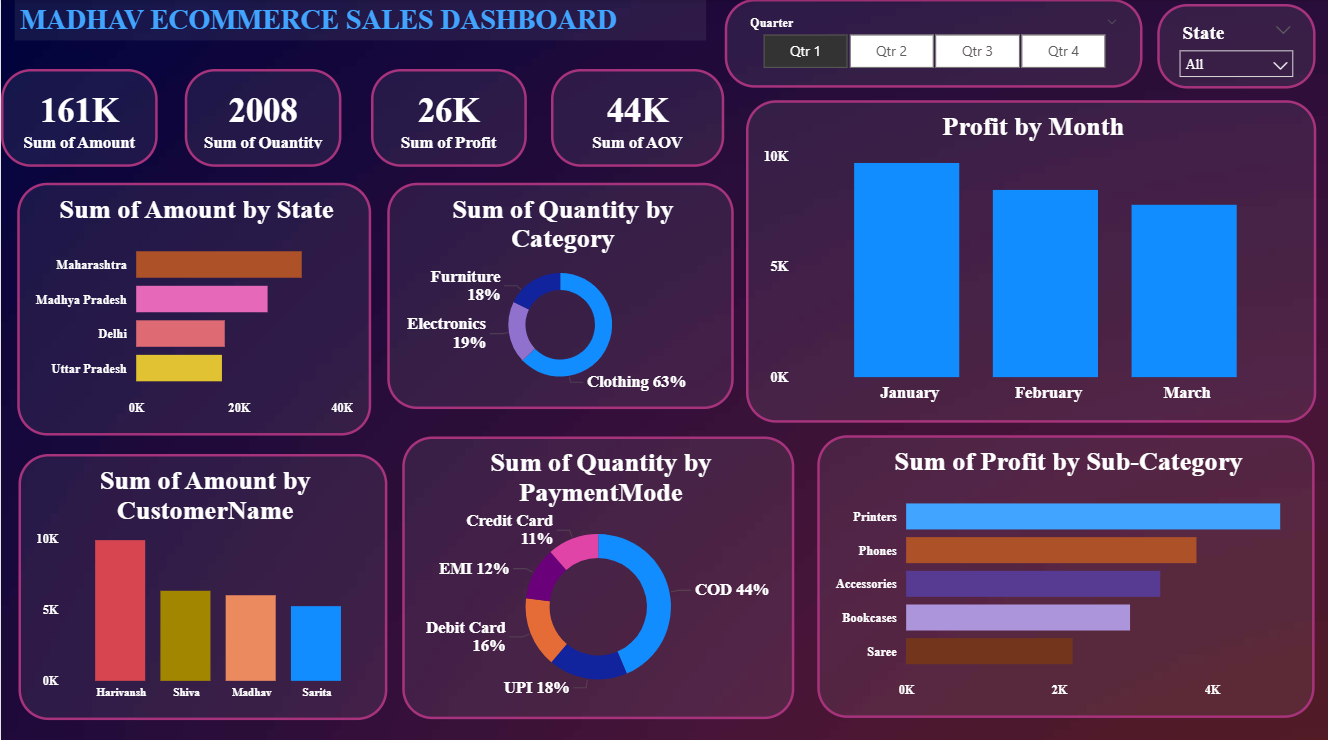

Layout of this report page (visuals, bound fields, positions):
{"tool":"powerbi","page":{"name":"Page 1","canvas":[1280,720],"ordinal":0},"visuals":[{"type":"columnChart","title":"Profit by Month","fields":{"Category":["Orders.Order Date.Variation.Date Hierarchy.Month"],"Y":["Sum(Details.Profit)"]},"box":[718.6,97.1,550,311.4],"z":0},{"type":"barChart","fields":{"Y":["Sum(Details.Profit)"],"Category":["Details.Sub-Category"]},"box":[787.7,421.3,480.3,273.1],"z":1000},{"type":"donutChart","fields":{"Y":["Sum(Details.Quantity)"],"Category":["Details.Category"]},"box":[372.9,177.1,334.3,218.6],"z":2000},{"type":"donutChart","fields":{"Y":["Sum(Details.Quantity)"],"Category":["Details.PaymentMode"]},"box":[387,422.6,378.7,273.1],"z":3000},{"type":"card","fields":{"Values":["Sum(Details.Amount)"]},"box":[0,67.1,151.4,94.3],"z":4000},{"type":"card","fields":{"Values":["Sum(Details.Quantity)"]},"box":[177.1,67.1,151.4,94.3],"z":5000},{"type":"card","fields":{"Values":["Sum(Details.Profit)"]},"box":[357.1,67.1,150,94.3],"z":6000},{"type":"card","fields":{"Values":["Sum(Details.AOV)"]},"box":[531.4,67.1,167.1,94.3],"z":7000},{"type":"barChart","fields":{"Category":["Orders.State"],"Y":["Sum(Details.Amount)"]},"box":[15.7,177.1,341.4,244.3],"z":8000},{"type":"columnChart","fields":{"Category":["Orders.CustomerName"],"Y":["Sum(Details.Amount)"]},"box":[17.1,438.6,355.7,257.1],"z":9000},{"type":"textbox","box":[12.9,0,667.1,40],"z":10000},{"type":"slicer","fields":{"Values":["Orders.Order Date.Variation.Date Hierarchy.Quarter"]},"box":[698.6,0,402.9,85.7],"z":11000},{"type":"slicer","fields":{"Values":["Orders.State"]},"box":[1115.7,4.3,152.9,81.4],"z":12000}]}

Visuals, with their boxes in screenshot pixels (x1, y1, x2, y2), scaled from the page's 1280x720 canvas onto the 1328x740 screenshot:
"Profit by Month" columnChart: 746, 100, 1316, 420
barChart - Sum(Details.Profit) x Details.Sub-Category: 817, 433, 1316, 714
donutChart - Sum(Details.Quantity) x Details.Category: 387, 182, 734, 407
donutChart - Sum(Details.Quantity) x Details.PaymentMode: 402, 434, 794, 715
card - Sum(Details.Amount): 0, 69, 157, 166
card - Sum(Details.Quantity): 184, 69, 341, 166
card - Sum(Details.Profit): 370, 69, 526, 166
card - Sum(Details.AOV): 551, 69, 725, 166
barChart - Orders.State x Sum(Details.Amount): 16, 182, 370, 433
columnChart - Orders.CustomerName x Sum(Details.Amount): 18, 451, 387, 715
textbox: 13, 0, 706, 41
slicer - Orders.Order Date.Variation.Date Hierarchy.Quarter: 725, 0, 1143, 88
slicer - Orders.State: 1158, 4, 1316, 88
